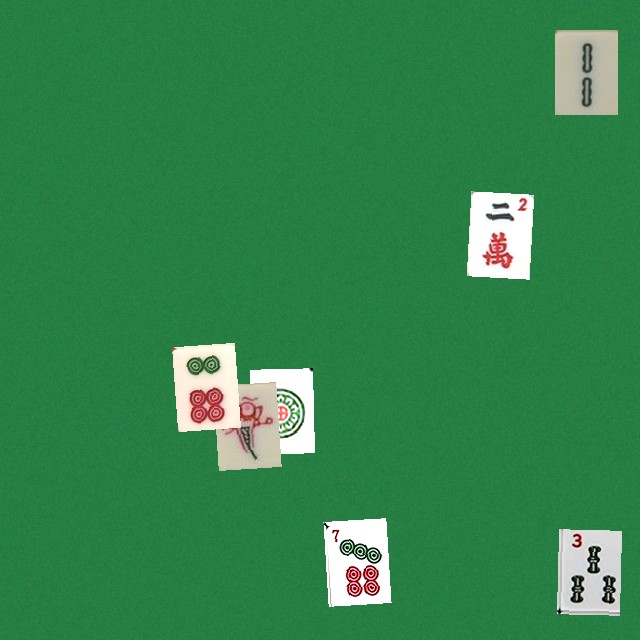tile: (250, 368, 313, 453), (323, 518, 386, 603), (213, 382, 276, 467), (172, 342, 235, 427), (466, 191, 529, 276), (554, 29, 617, 114), (556, 529, 619, 614)
